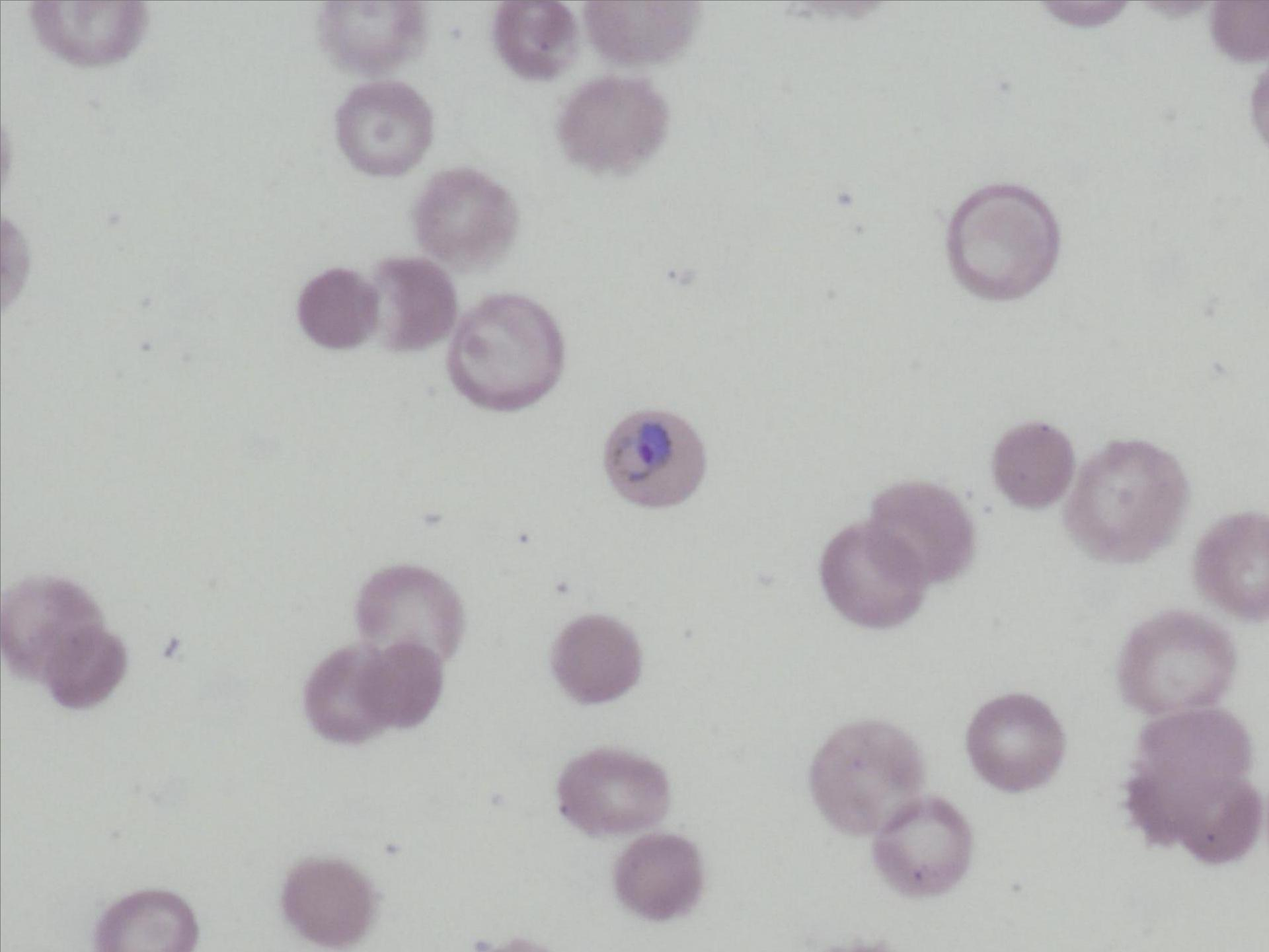Infected: (605, 411, 704, 506)
Uninfected: (1064, 439, 1187, 558), (447, 295, 562, 406), (947, 184, 1059, 296), (812, 723, 925, 834), (866, 482, 974, 587), (1118, 612, 1231, 712), (557, 77, 667, 172), (0, 583, 102, 685), (820, 527, 924, 626), (415, 172, 519, 270), (356, 566, 461, 662), (557, 749, 668, 836), (872, 799, 972, 894), (967, 694, 1063, 789), (335, 83, 434, 175), (346, 641, 445, 732), (281, 858, 376, 946), (304, 649, 389, 743), (551, 616, 641, 702), (373, 258, 457, 349), (318, 2, 423, 73), (614, 835, 701, 920), (1196, 513, 1269, 612), (33, 2, 145, 65), (1175, 782, 1262, 862), (993, 423, 1075, 507), (584, 2, 693, 65), (494, 1, 580, 77), (43, 630, 127, 706), (95, 889, 196, 951), (298, 268, 375, 346)
